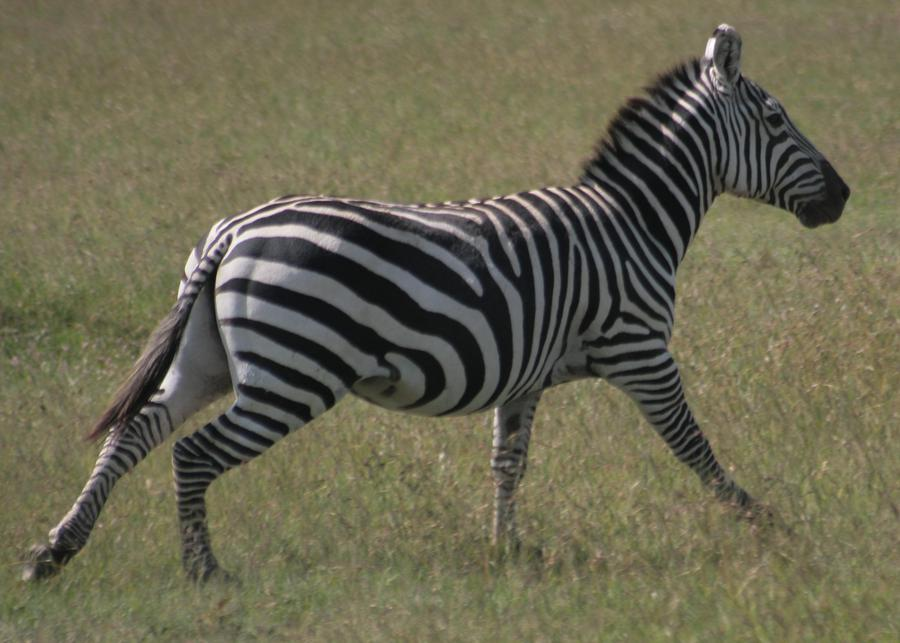zebra_plains: (238, 167, 669, 421)
